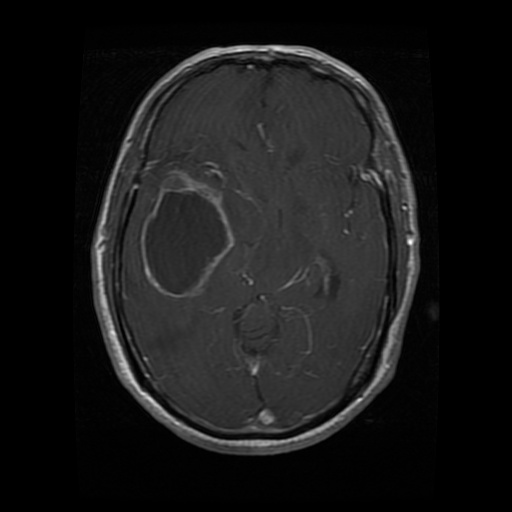glioma: (140, 170, 235, 298)
